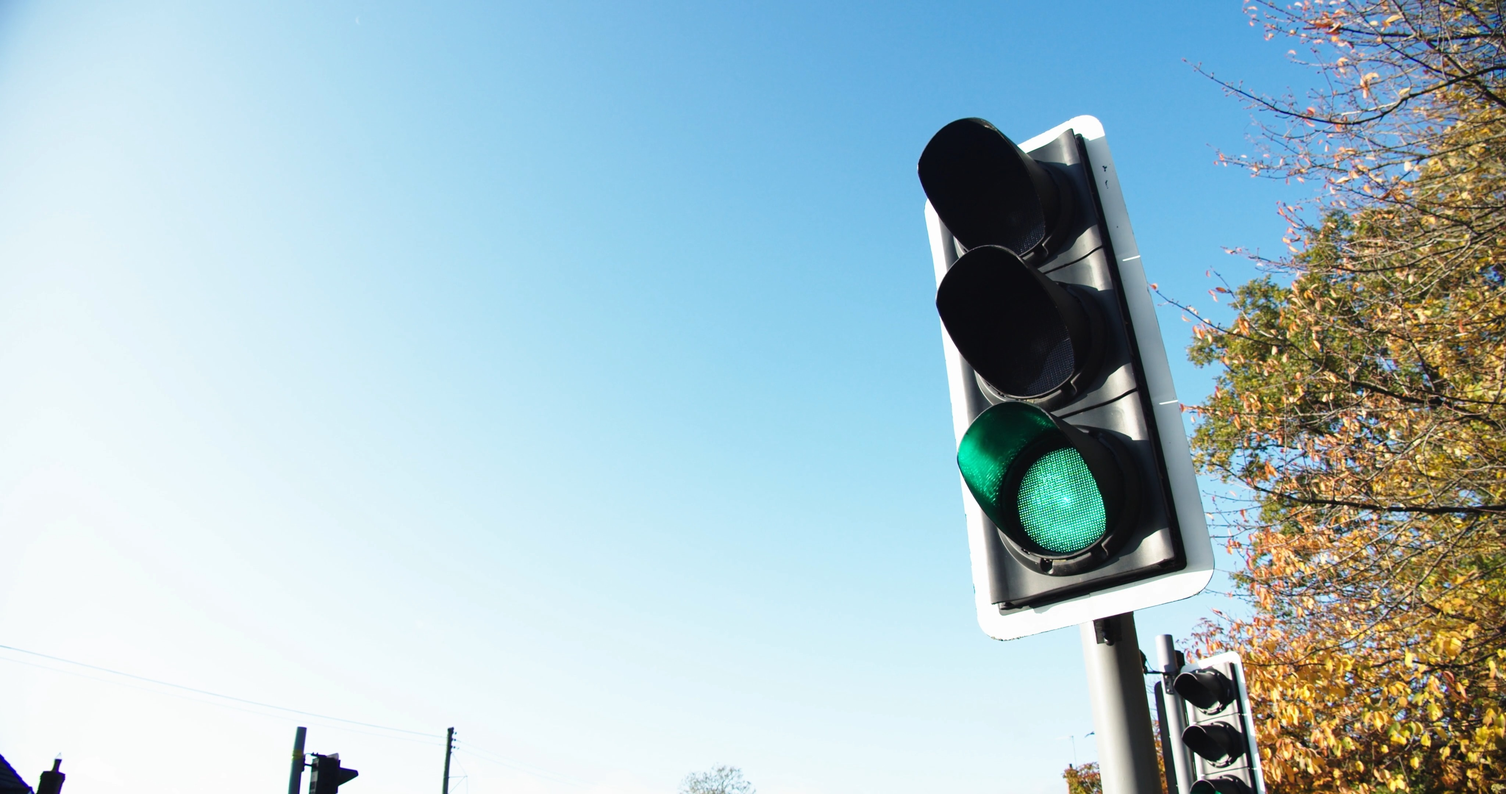green traffic light: (868, 107, 1230, 593)
